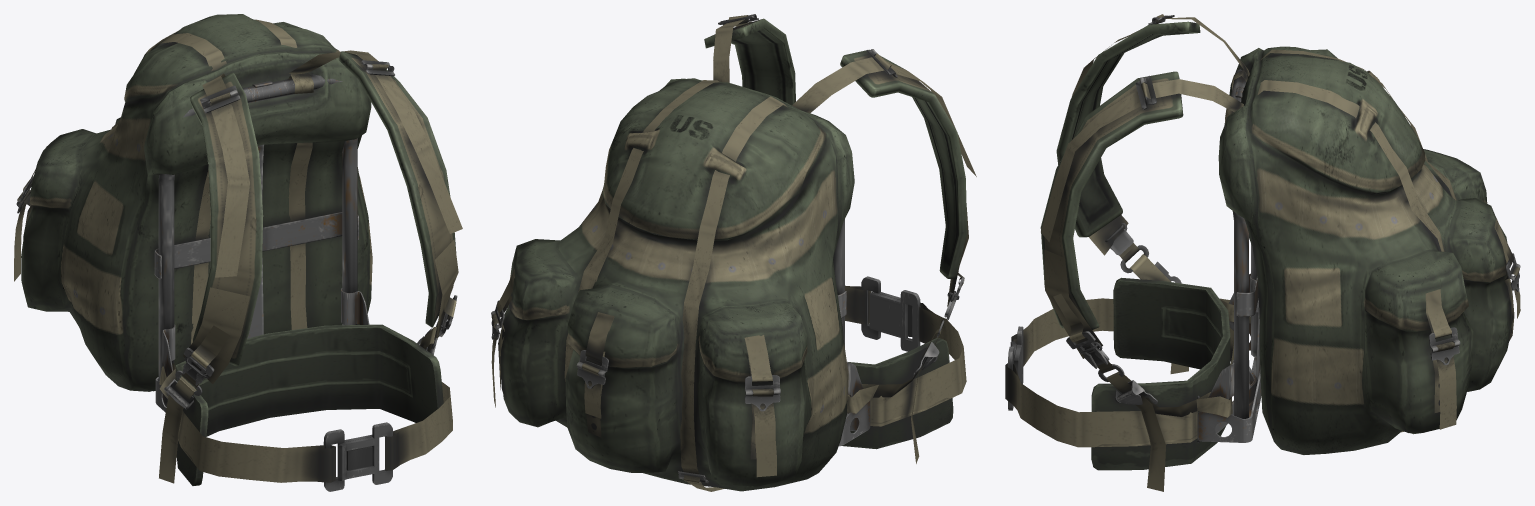
File: backpack.glb
3 views of the same model, side by side, from view 1: azimuth 30°, elevation 25°; view 2: azimuth 150°, elevation 25°; view 3: azimuth 270°, elevation 25° (orthographic).
Parts seen in each view (by area): view 1: model_lc-2_frame, model_alice_backpack; view 2: model_alice_backpack, model_lc-2_frame; view 3: model_alice_backpack, model_lc-2_frame.
Boxes of the visible parts, x1=… form: model_lc-2_frame: x1=154, y1=50, x2=462, y2=491; model_alice_backpack: x1=14, y1=14, x2=372, y2=391; model_alice_backpack: x1=491, y1=78, x2=854, y2=491; model_lc-2_frame: x1=704, y1=14, x2=976, y2=463; model_alice_backpack: x1=1218, y1=46, x2=1520, y2=454; model_lc-2_frame: x1=1005, y1=14, x2=1261, y2=491.
Size of the model in its own units: 0.4659 by 0.5483 by 0.6646.
1 material, 1 textured.
